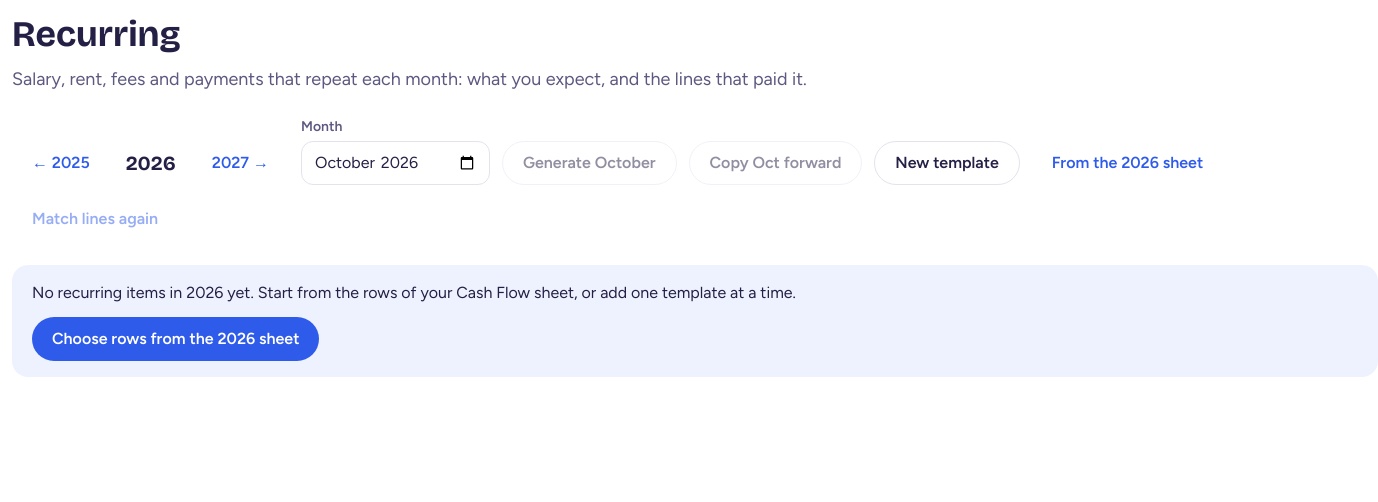
Test case: Recurring page › creates templates from the sheet's ticked rows
This screenshot has width=1378, height=502.
Click the button "Choose rows from the 2026 sheet" at (176, 339), box [32,317,320,361]
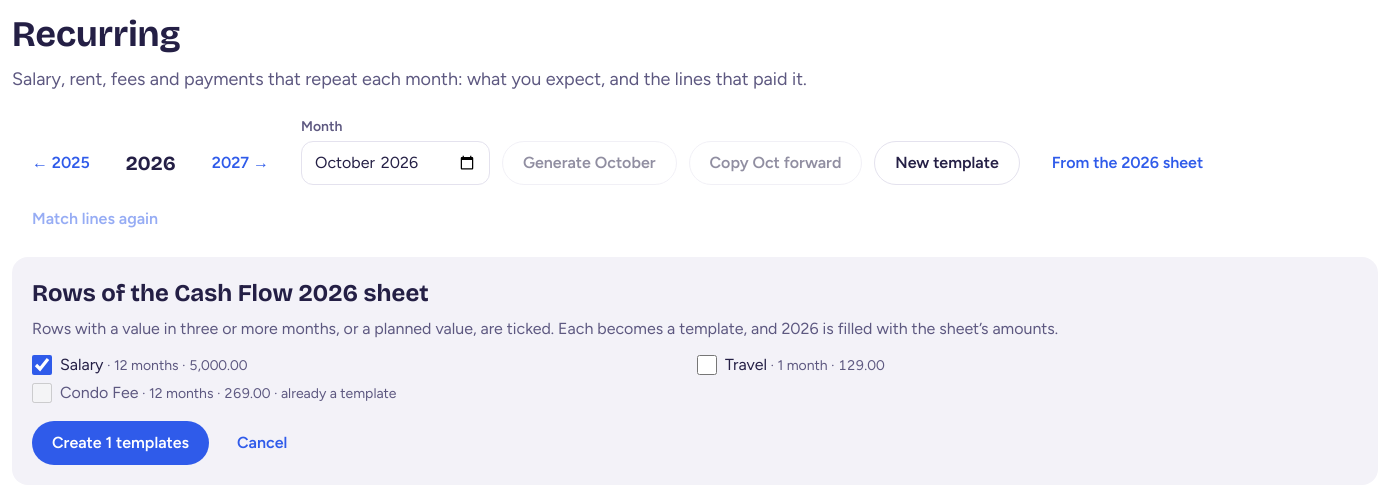
Check: the checkbox labelled "Salary · 12 months · 5,000.00" is checked, box [32,355,52,375]
Check: the checkbox labelled "Condo Fee · 12 months · 269.00 · already a template" is disabled, box [32,383,52,403]
Click the checkbox labelled "Travel · 1 month · 129.00" at (707, 365), box [697,355,717,375]
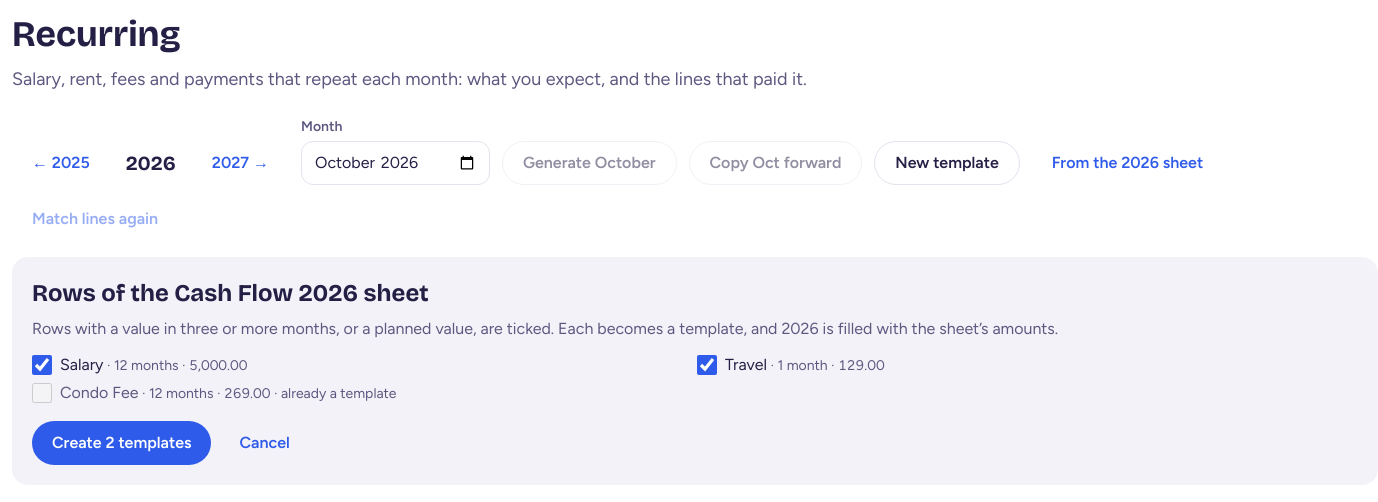
Click the button "Create 2 templates" at (122, 443), box [32,421,212,465]
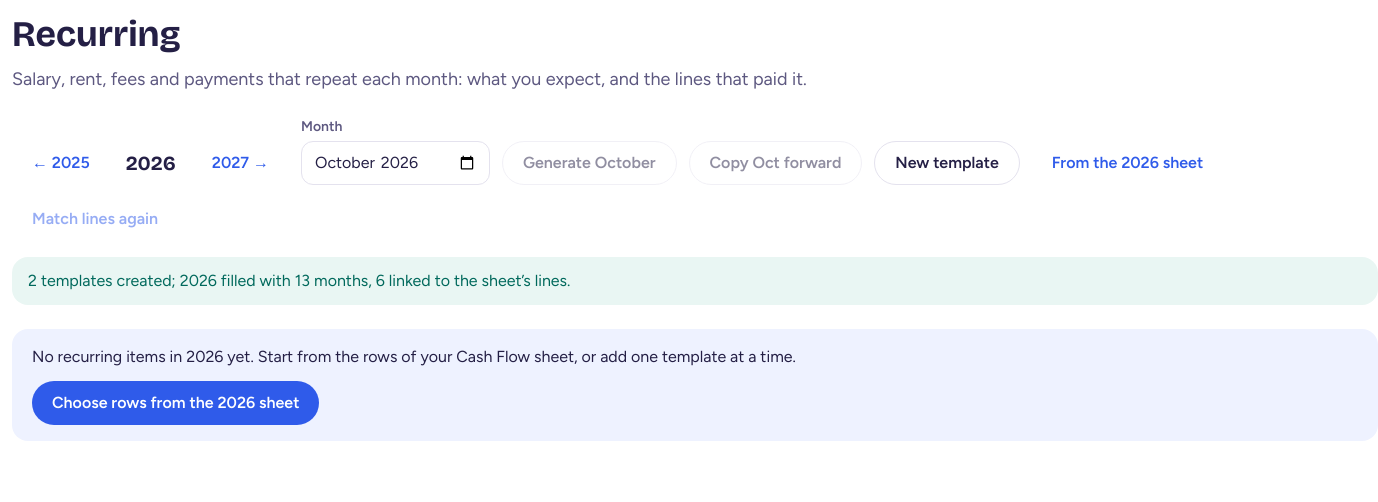
Check: the text "2 templates created; 2026 filled with 13 months, 6 linked to the sheet’s lines." is shown, box [12,257,1377,305]
